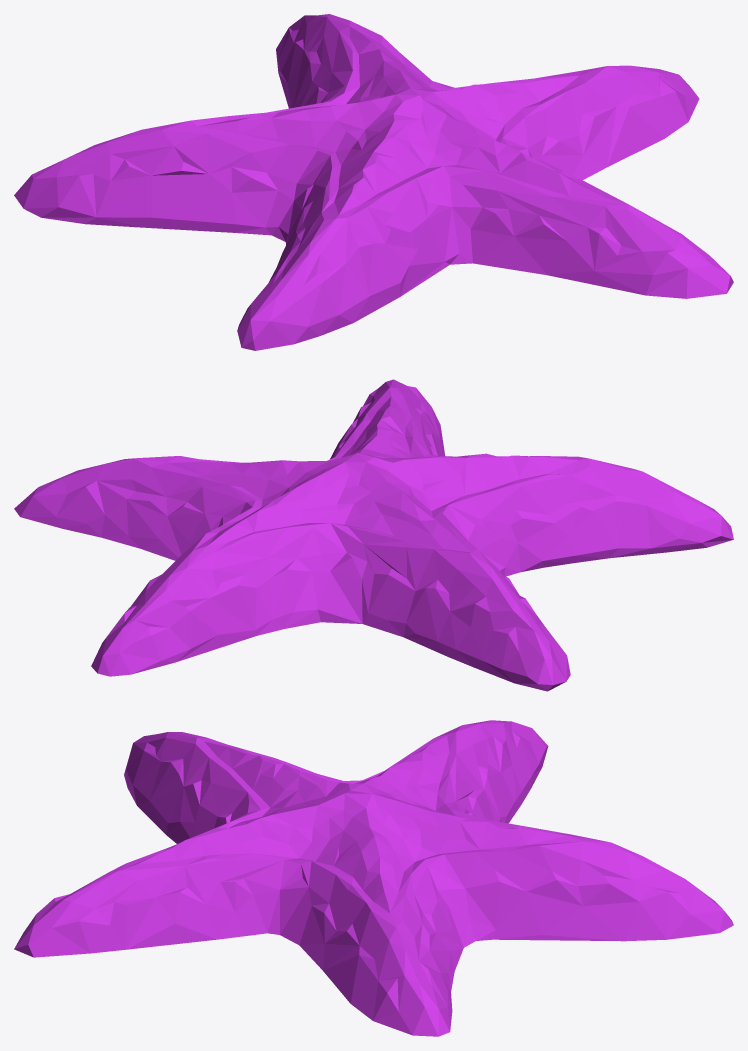
Rendered from starfish.dae.
3 views of the same model, one above another, from view 1: azimuth 30°, elevation 25°; view 2: azimuth 150°, elevation 25°; view 3: azimuth 270°, elevation 25° (orthographic). The views are drawn at different scales.
Visible parts, largest first — view 1: Starfish_01_012; view 2: Starfish_01_012; view 3: Starfish_01_012.
Boxes of the visible parts, box(x1,y1,x2,y2) form: Starfish_01_012: box(14, 14, 733, 350); Starfish_01_012: box(14, 379, 733, 691); Starfish_01_012: box(14, 720, 733, 1036).
Size of the model in its own units: 0.2534 by 0.2642 by 0.041.
